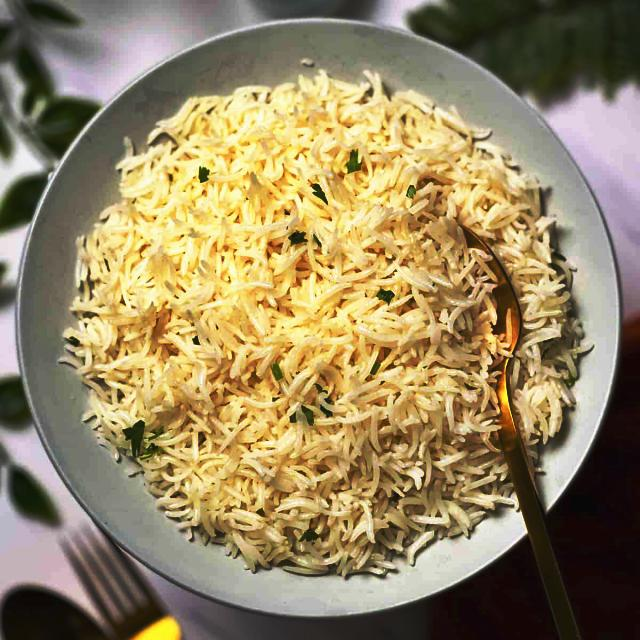rice: (68, 71, 563, 582)
